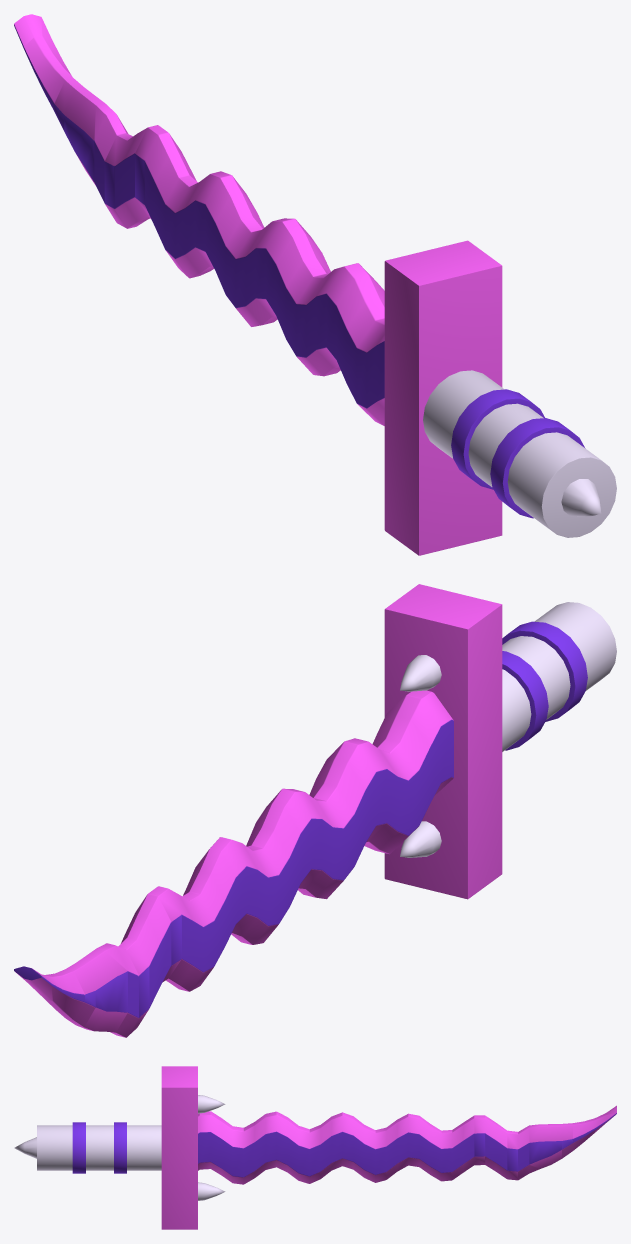
Rendered from Sword_HushfangKris.glb.
3 renders of one model, top to bottom at view 1: azimuth 30°, elevation 25°; view 2: azimuth 150°, elevation 25°; view 3: azimuth 270°, elevation 25°, orthographic. The views are drawn at different scales.
Visible parts, largest first — view 1: Sword_HushfangKris; view 2: Sword_HushfangKris; view 3: Sword_HushfangKris.
Boxes of the visible parts, x1,y1,x2,y2 form: Sword_HushfangKris: [14, 14, 616, 555]; Sword_HushfangKris: [14, 584, 616, 1037]; Sword_HushfangKris: [14, 1066, 616, 1229].
Size of the model in its own units: 0.086 by 0.26 by 1.
1 material, 1 textured.
